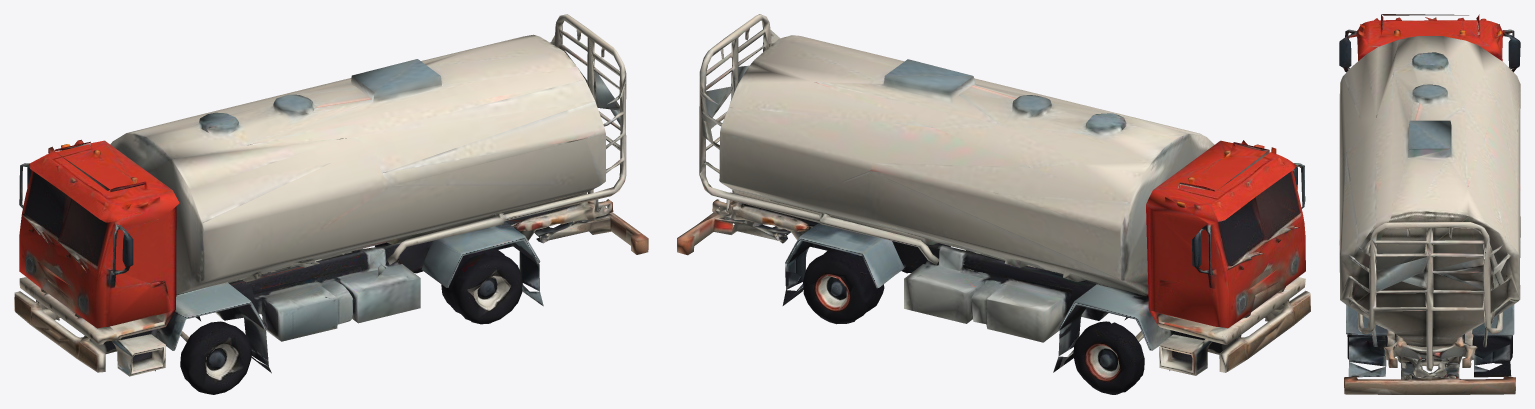
File: tanker.glb
The picture shows the model from 3 angles, left to right: view 1: azimuth 30°, elevation 25°; view 2: azimuth 150°, elevation 25°; view 3: azimuth 270°, elevation 25°; orthographic projection. The views are drawn at different scales.
Size of the model in its own units: 1.9 by 0.7568 by 0.6086.
1 material, 1 textured.
